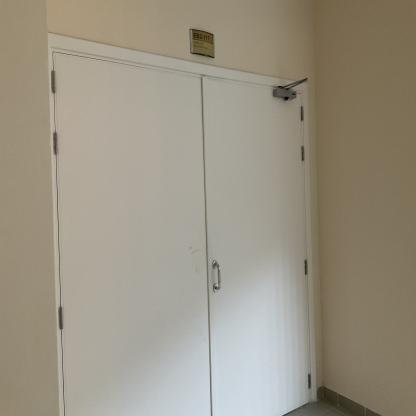closed: (41, 66, 324, 415)
